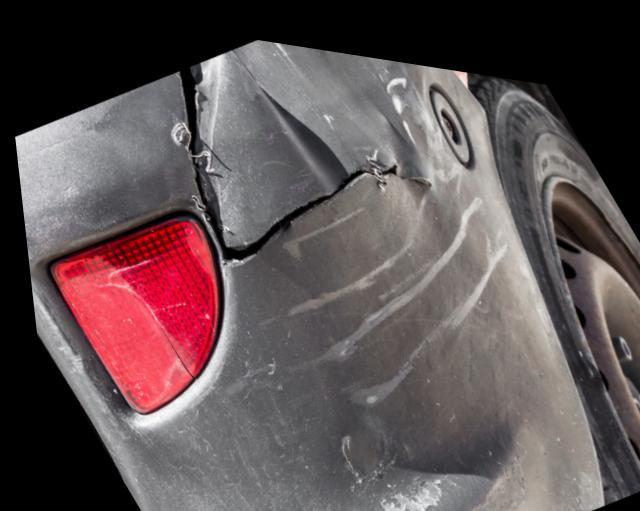crack: (177, 41, 432, 261), (143, 304, 187, 374)
dent: (238, 31, 402, 155)
scratch: (261, 64, 512, 408), (341, 457, 449, 511)
